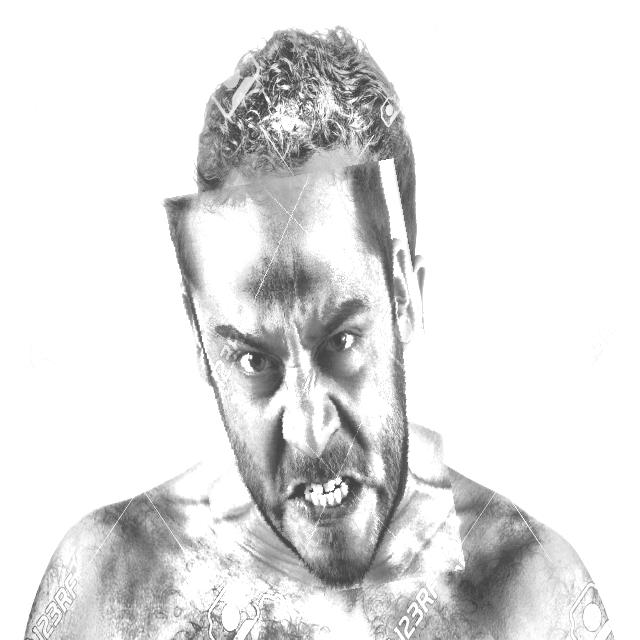angry: (173, 167, 448, 602)
